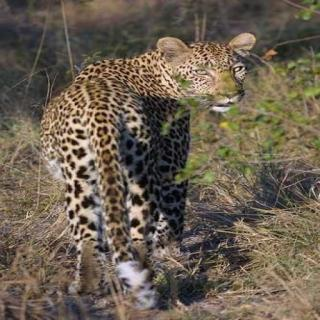Leopard: (35, 25, 264, 290)
